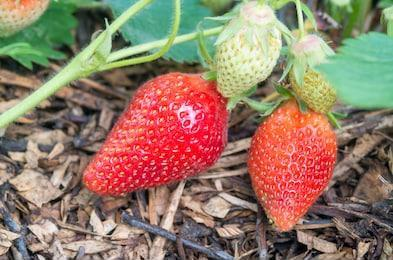Fresa: (81, 63, 234, 203), (244, 88, 341, 235)
